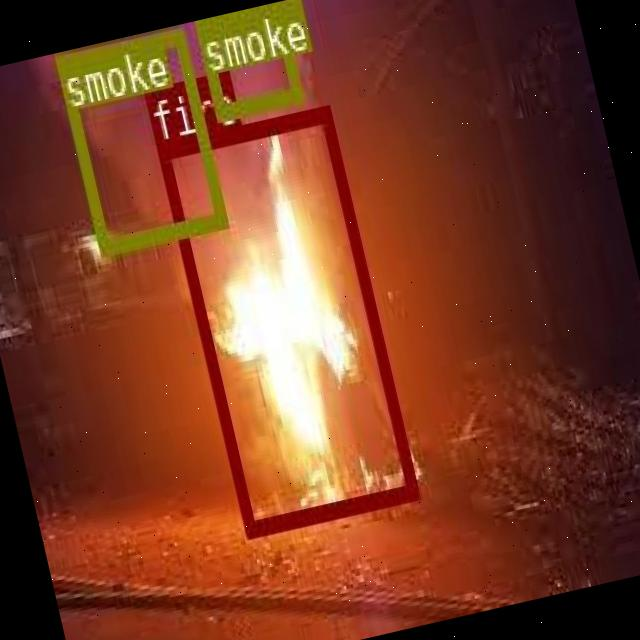fire: (154, 102, 417, 536)
smoke: (54, 27, 226, 254), (192, 1, 300, 120)
